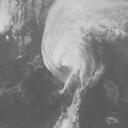cyclone: (41, 3, 113, 89)
